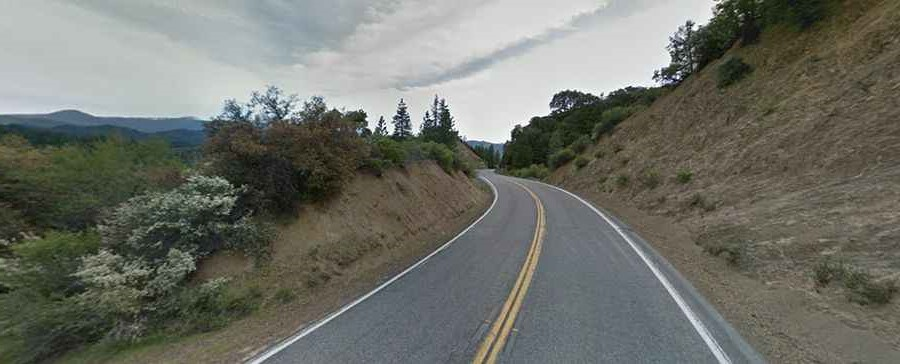leftTrun: (467, 159, 612, 292)
